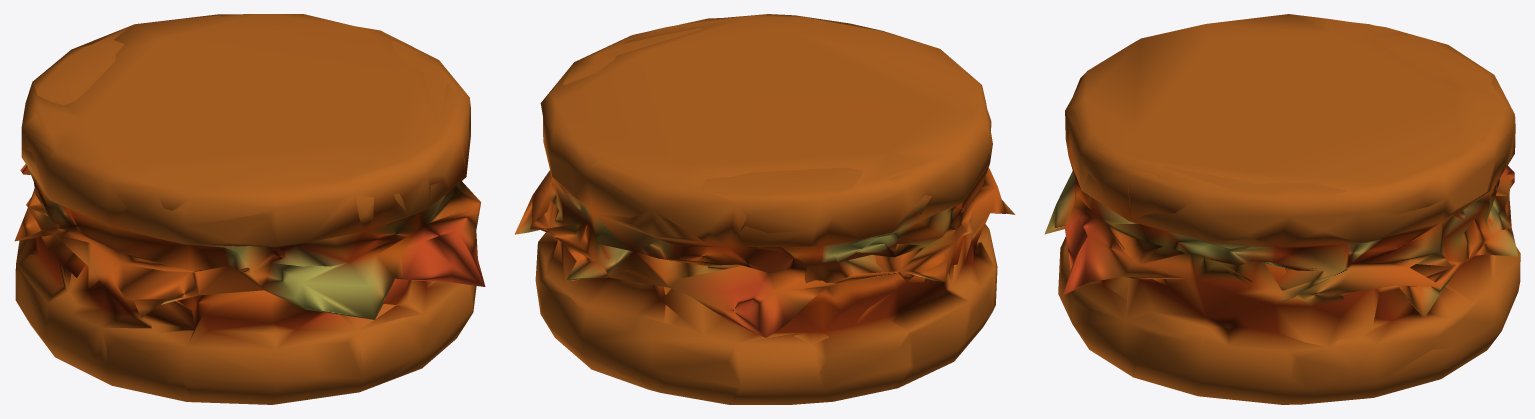
The model's file is gen3d-food-lod0.glb.
3 views of the same model, side by side, from view 1: azimuth 30°, elevation 25°; view 2: azimuth 150°, elevation 25°; view 3: azimuth 270°, elevation 25° (orthographic).
Parts seen in each view (by area): view 1: part_0; view 2: part_0; view 3: part_0.
Boxes of the visible parts, x1,y1,x2,y2 form: part_0: (14, 14, 485, 404); part_0: (514, 14, 1015, 404); part_0: (1044, 14, 1520, 404).
Bounding box in the file's own units: 1.93 × 1 × 1.97.
